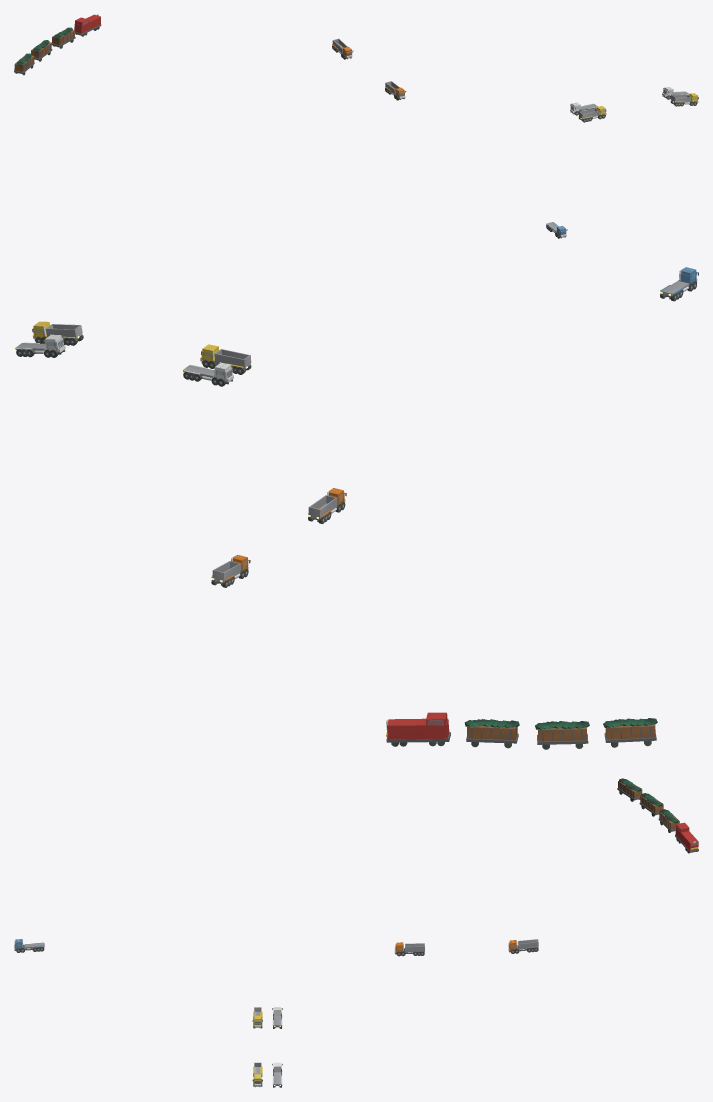
Rendered from Vehicles_P1.fbx.
3 views of the same model, one above another, from view 1: azimuth 30°, elevation 25°; view 2: azimuth 150°, elevation 25°; view 3: azimuth 270°, elevation 25° (orthographic). The views are drawn at different scales.
Visible parts, largest first — view 1: train; view 2: train, wagon.002, wagon, wagon.001, truck_road_ore2, truck_road_ore3, truck_road_ore1, truck_road_cargo1, truck_road_ore0, truck_road_cargo0; view 3: no part large enough to name.
Boxes of the visible parts, x1,y1,x2,y2 form: train: (74, 14, 101, 36); train: (386, 712, 450, 746); wagon.002: (603, 718, 657, 747); wagon: (464, 719, 519, 748); wagon.001: (535, 721, 589, 749); truck_road_ore2: (200, 344, 252, 374); truck_road_ore3: (32, 321, 84, 345); truck_road_ore1: (308, 488, 346, 523); truck_road_cargo1: (181, 362, 233, 386); truck_road_ore0: (211, 555, 250, 587); truck_road_cargo0: (14, 334, 65, 357).
Bounding box in the file's own units: 16786 × 1287 × 18074.
